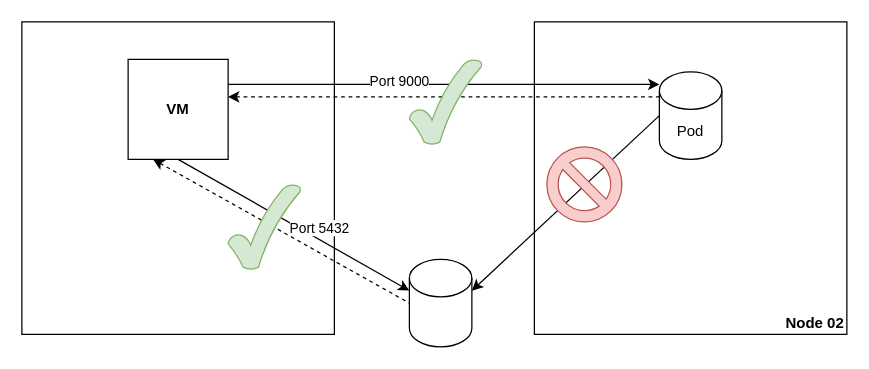
This 869x369 diagram has some shape labels left out. The box of each missing label's shape, as (x1, y1, x2, y2) in pixels:
DB: (408, 258, 472, 347)
Node 01: (21, 21, 334, 334)
